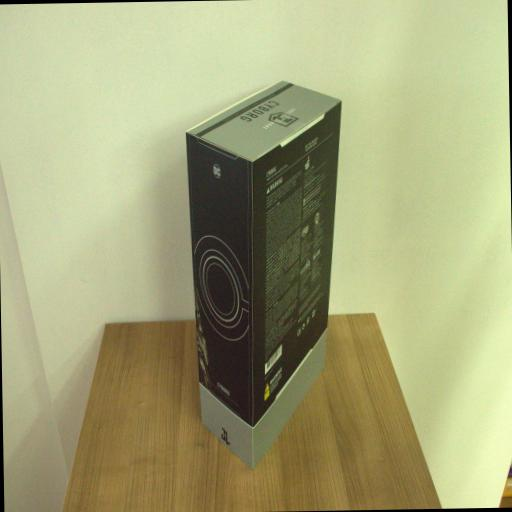Cyborg: (184, 82, 352, 470)
